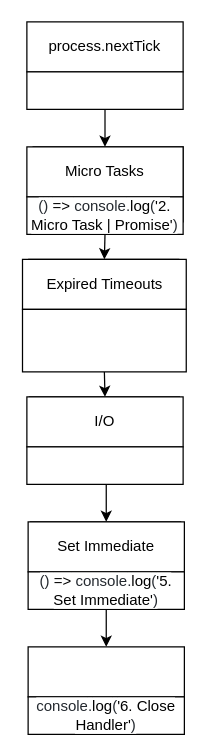
Image size: 208x756. Some labels were removed from this diagram. Each missing label, with the box of its shape:
( ) => console . log ( '1. process.nextTick' ): (26, 71, 183, 109)
( ) => console . log ( '3. Expired Timer Callbacks' ): (21, 308, 186, 372)
() => console . log ( '4. I/O' ): (26, 446, 183, 484)
Close Handlers: (27, 646, 184, 697)
